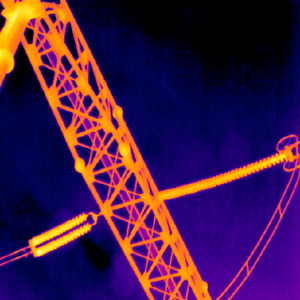insulator: (156, 148, 290, 201), (29, 212, 88, 245), (34, 222, 92, 255)
